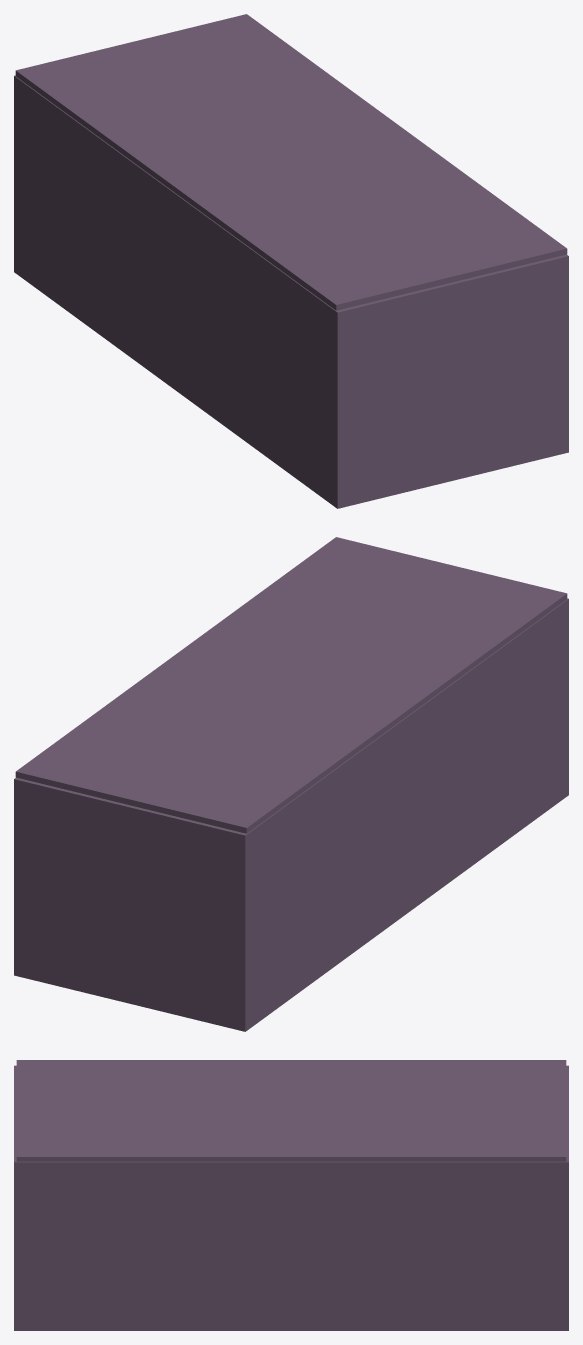
The model's file is Test room.fbx.
The picture shows the model from 3 angles, top to bottom: view 1: azimuth 30°, elevation 25°; view 2: azimuth 150°, elevation 25°; view 3: azimuth 270°, elevation 25°; orthographic projection. The views are drawn at different scales.
Visible parts, largest first — view 1: Cube, Cube.003; view 2: Cube, Cube.003; view 3: Cube, Cube.003.
Part boxes in pixels (x1,y1,x2,y2): Cube: [14, 75, 568, 508]; Cube.003: [15, 14, 567, 310]; Cube: [14, 598, 568, 1031]; Cube.003: [15, 537, 567, 833]; Cube: [14, 1065, 568, 1330]; Cube.003: [16, 1060, 566, 1161].
Size of the model in its own units: 800 by 670 by 1938.
